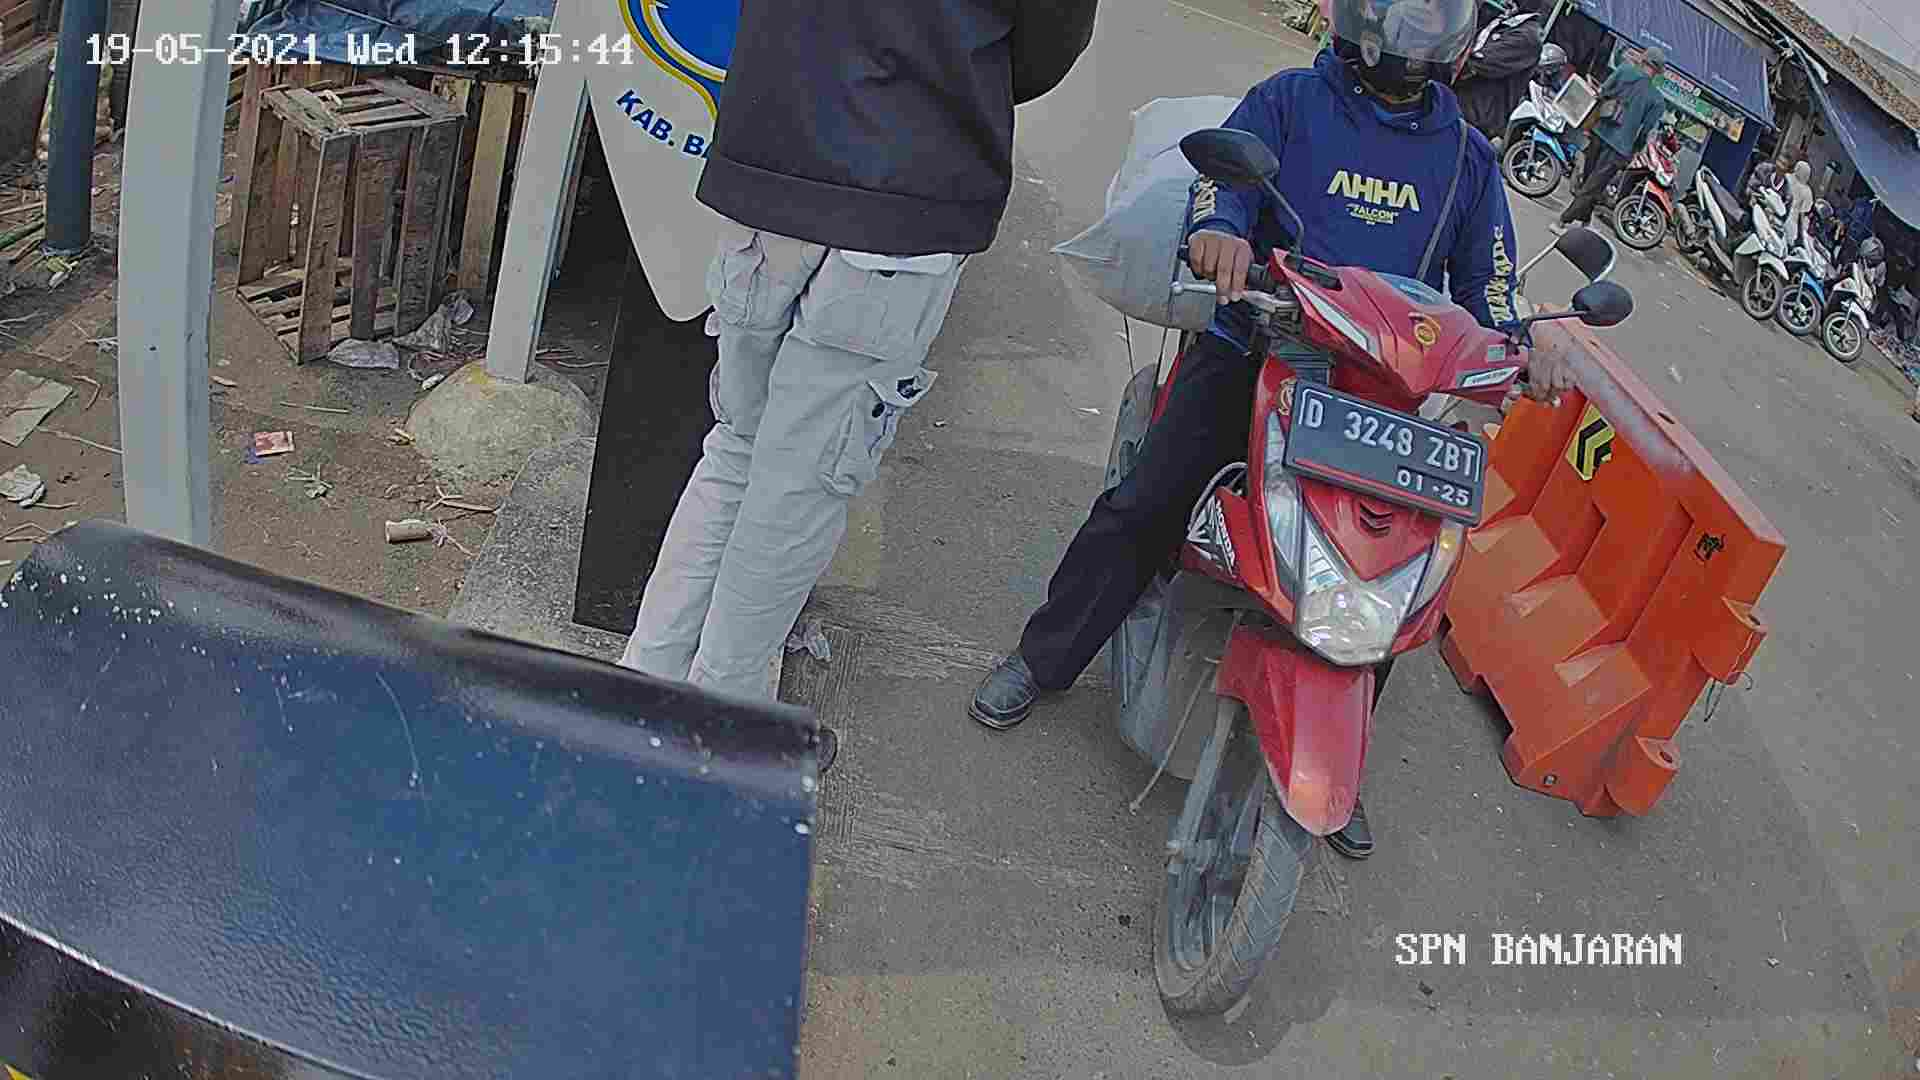motor: (1149, 235, 1499, 1019)
